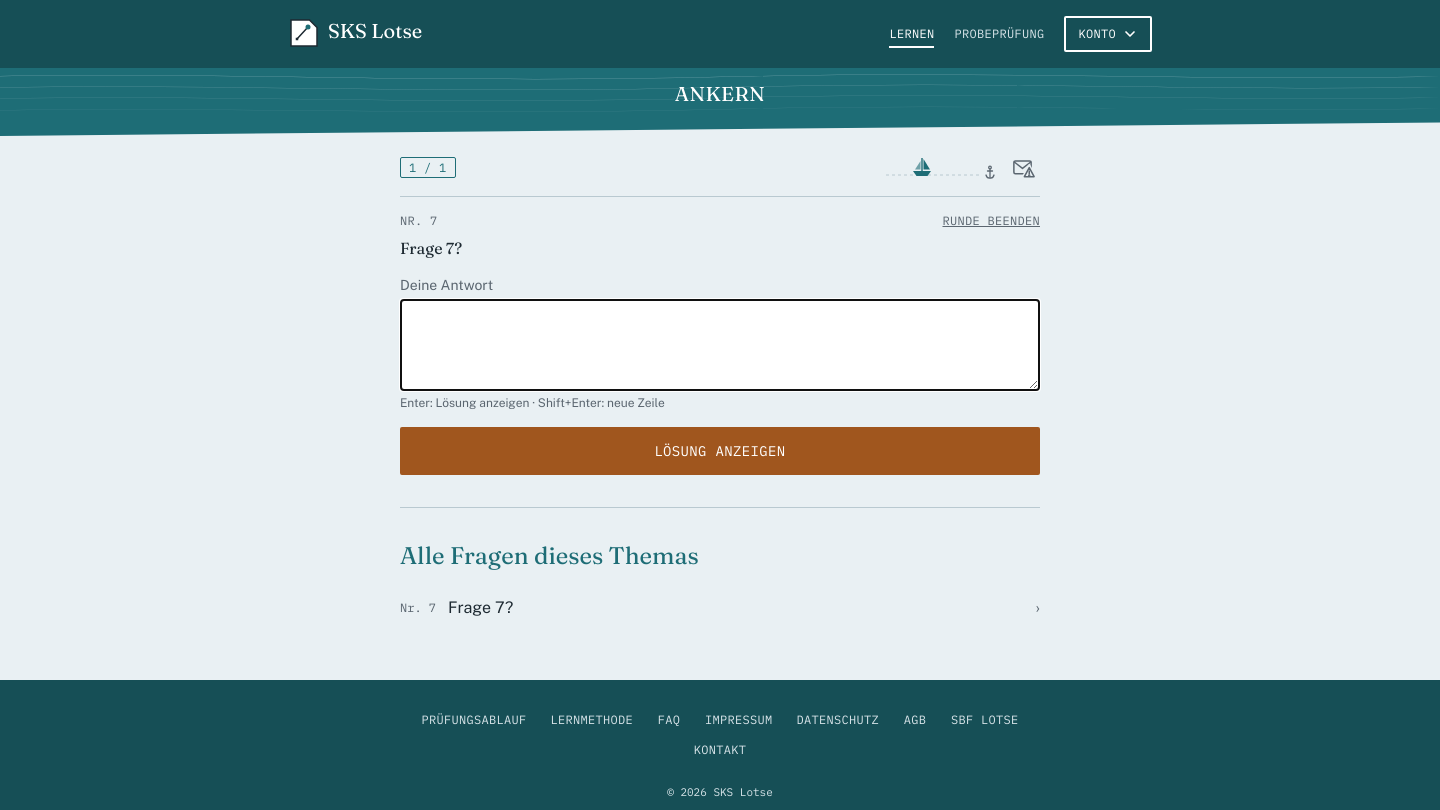
Test: PracticePage › saves a self-assessment and sails the boat forward
Expected: the picture named "Auf Kurs zu gelernt" is shown, [884,156,996,180]
Click the button "Lösung anzeigen" at (720, 451), box [400,427,1040,475]
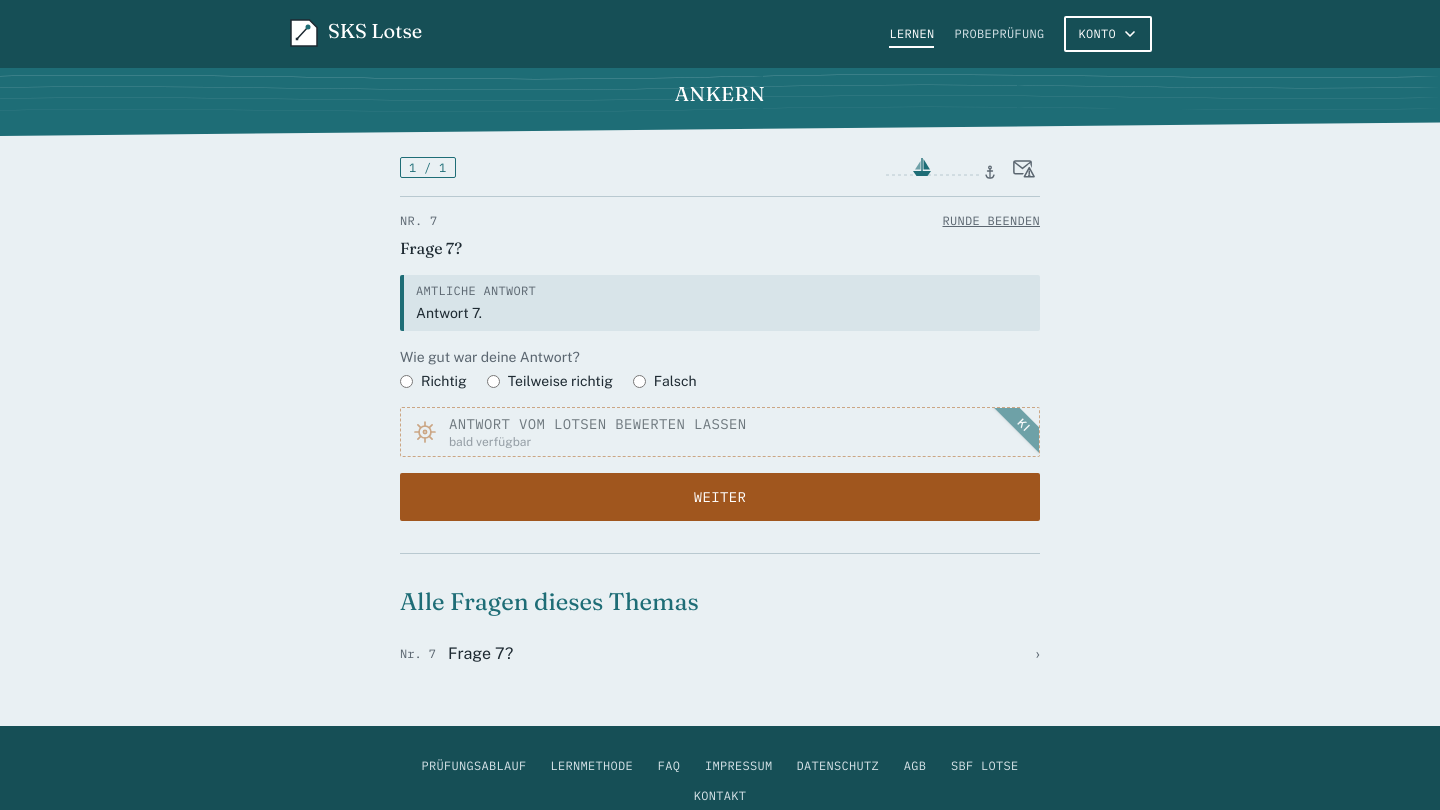
Click the radio button labelled "Richtig" at (406, 381), box [400,374,413,388]
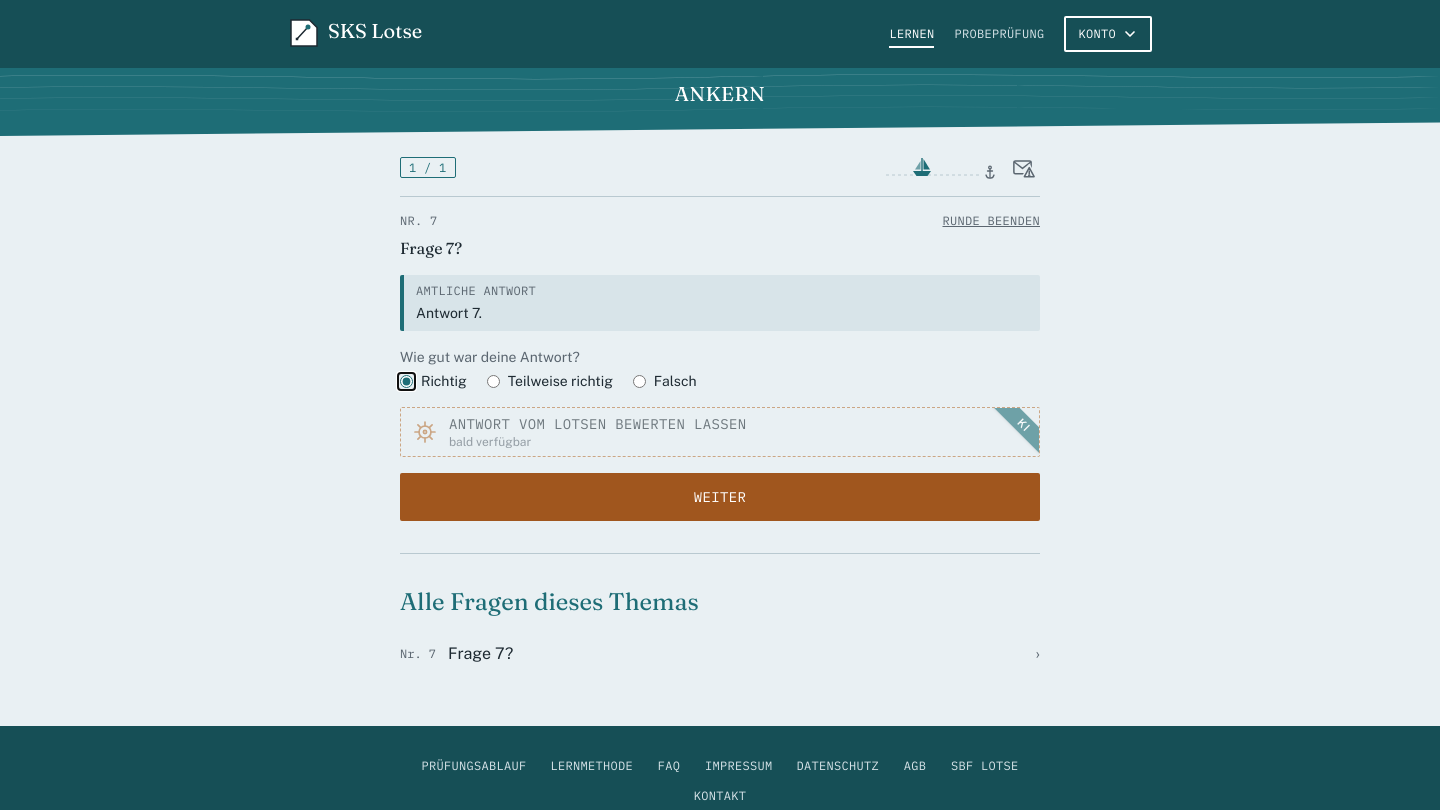
Click the button "Weiter" at (720, 497), box [400,473,1040,521]
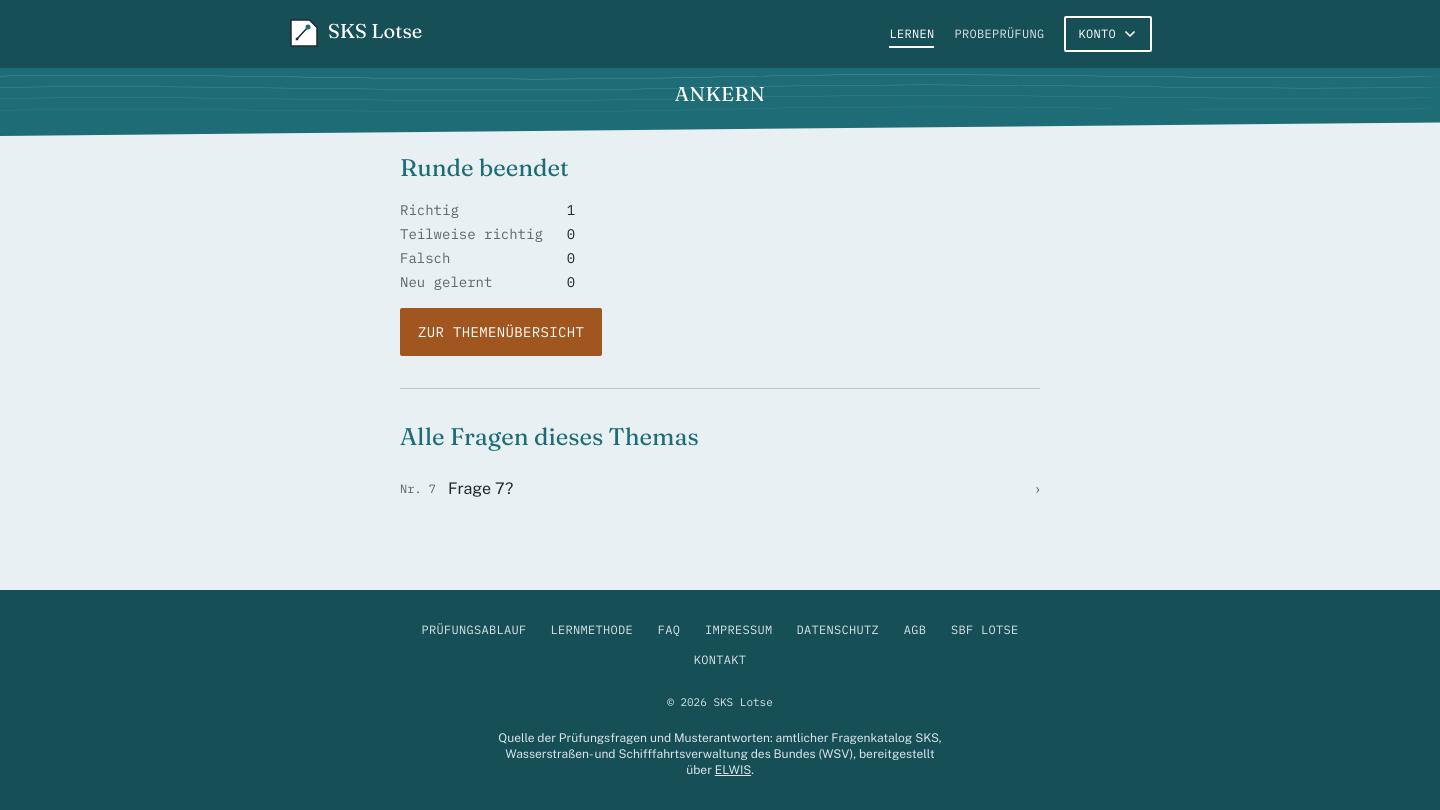
Expected: the heading "Runde beendet" is shown, [400,152,569,184]
